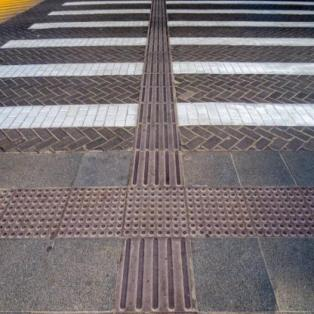Podoctatil: (0, 0, 311, 309)
